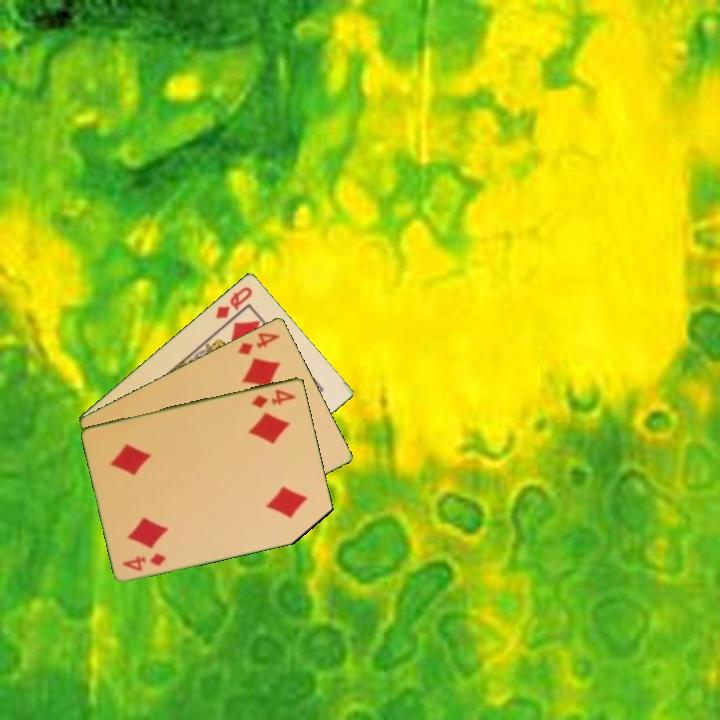4d: (234, 328, 283, 358), (247, 385, 299, 411), (118, 549, 169, 574)
Qd: (212, 283, 256, 321)
